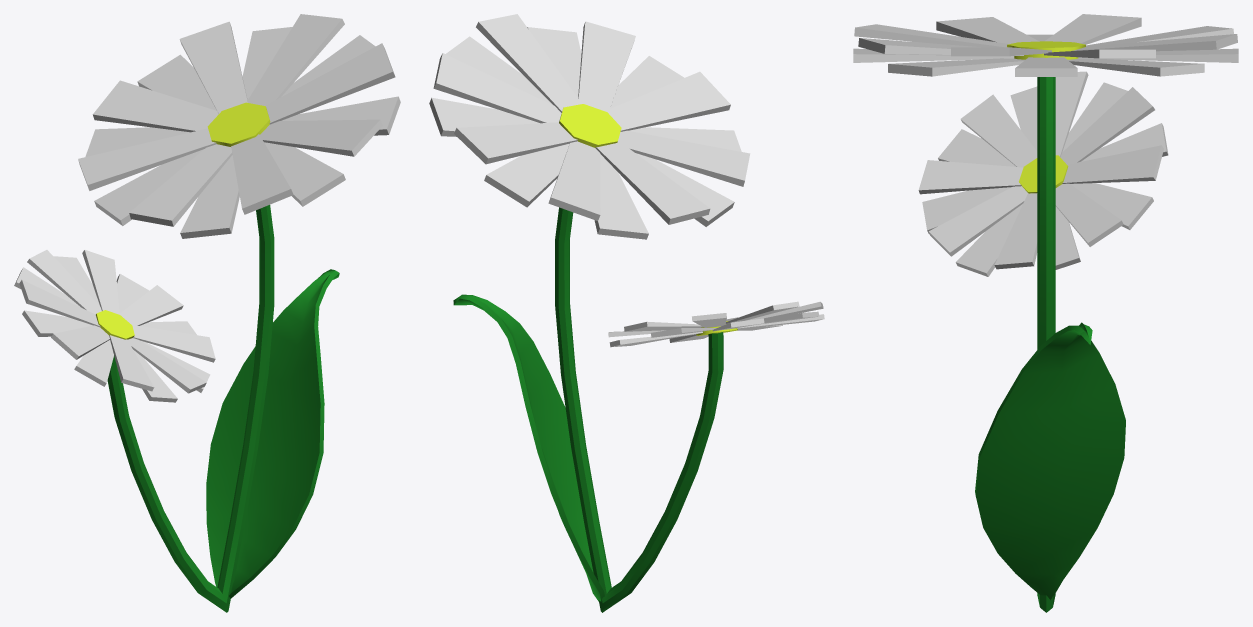
Rendered from paquerette.FBX.
The picture shows the model from 3 angles, left to right: view 1: azimuth 30°, elevation 25°; view 2: azimuth 150°, elevation 25°; view 3: azimuth 270°, elevation 25°; orthographic projection. The views are drawn at different scales.
Visible parts, largest first — view 1: paquerette; view 2: paquerette; view 3: paquerette.
Boxes of the visible parts, left/top/right/bottom form: paquerette: left=14, top=14, right=400, bottom=612; paquerette: left=429, top=14, right=824, bottom=612; paquerette: left=853, top=14, right=1238, bottom=612.
Size of the model in its own units: 13.04 by 19.4 by 10.49.
